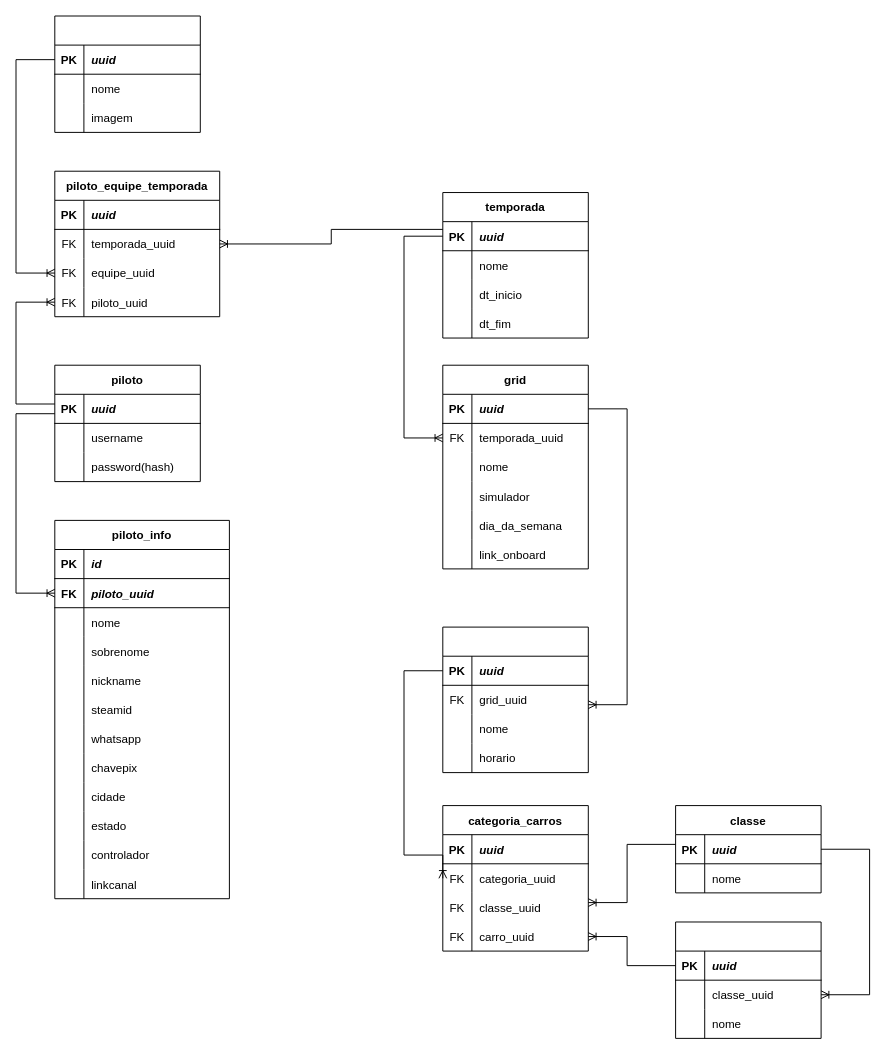
This 886x1054 diagram has some shape labels left out. Each missing label, with the box of its shape:
carro: (675, 921, 821, 1038)
categoria: (442, 626, 588, 773)
equipe: (54, 15, 200, 132)
